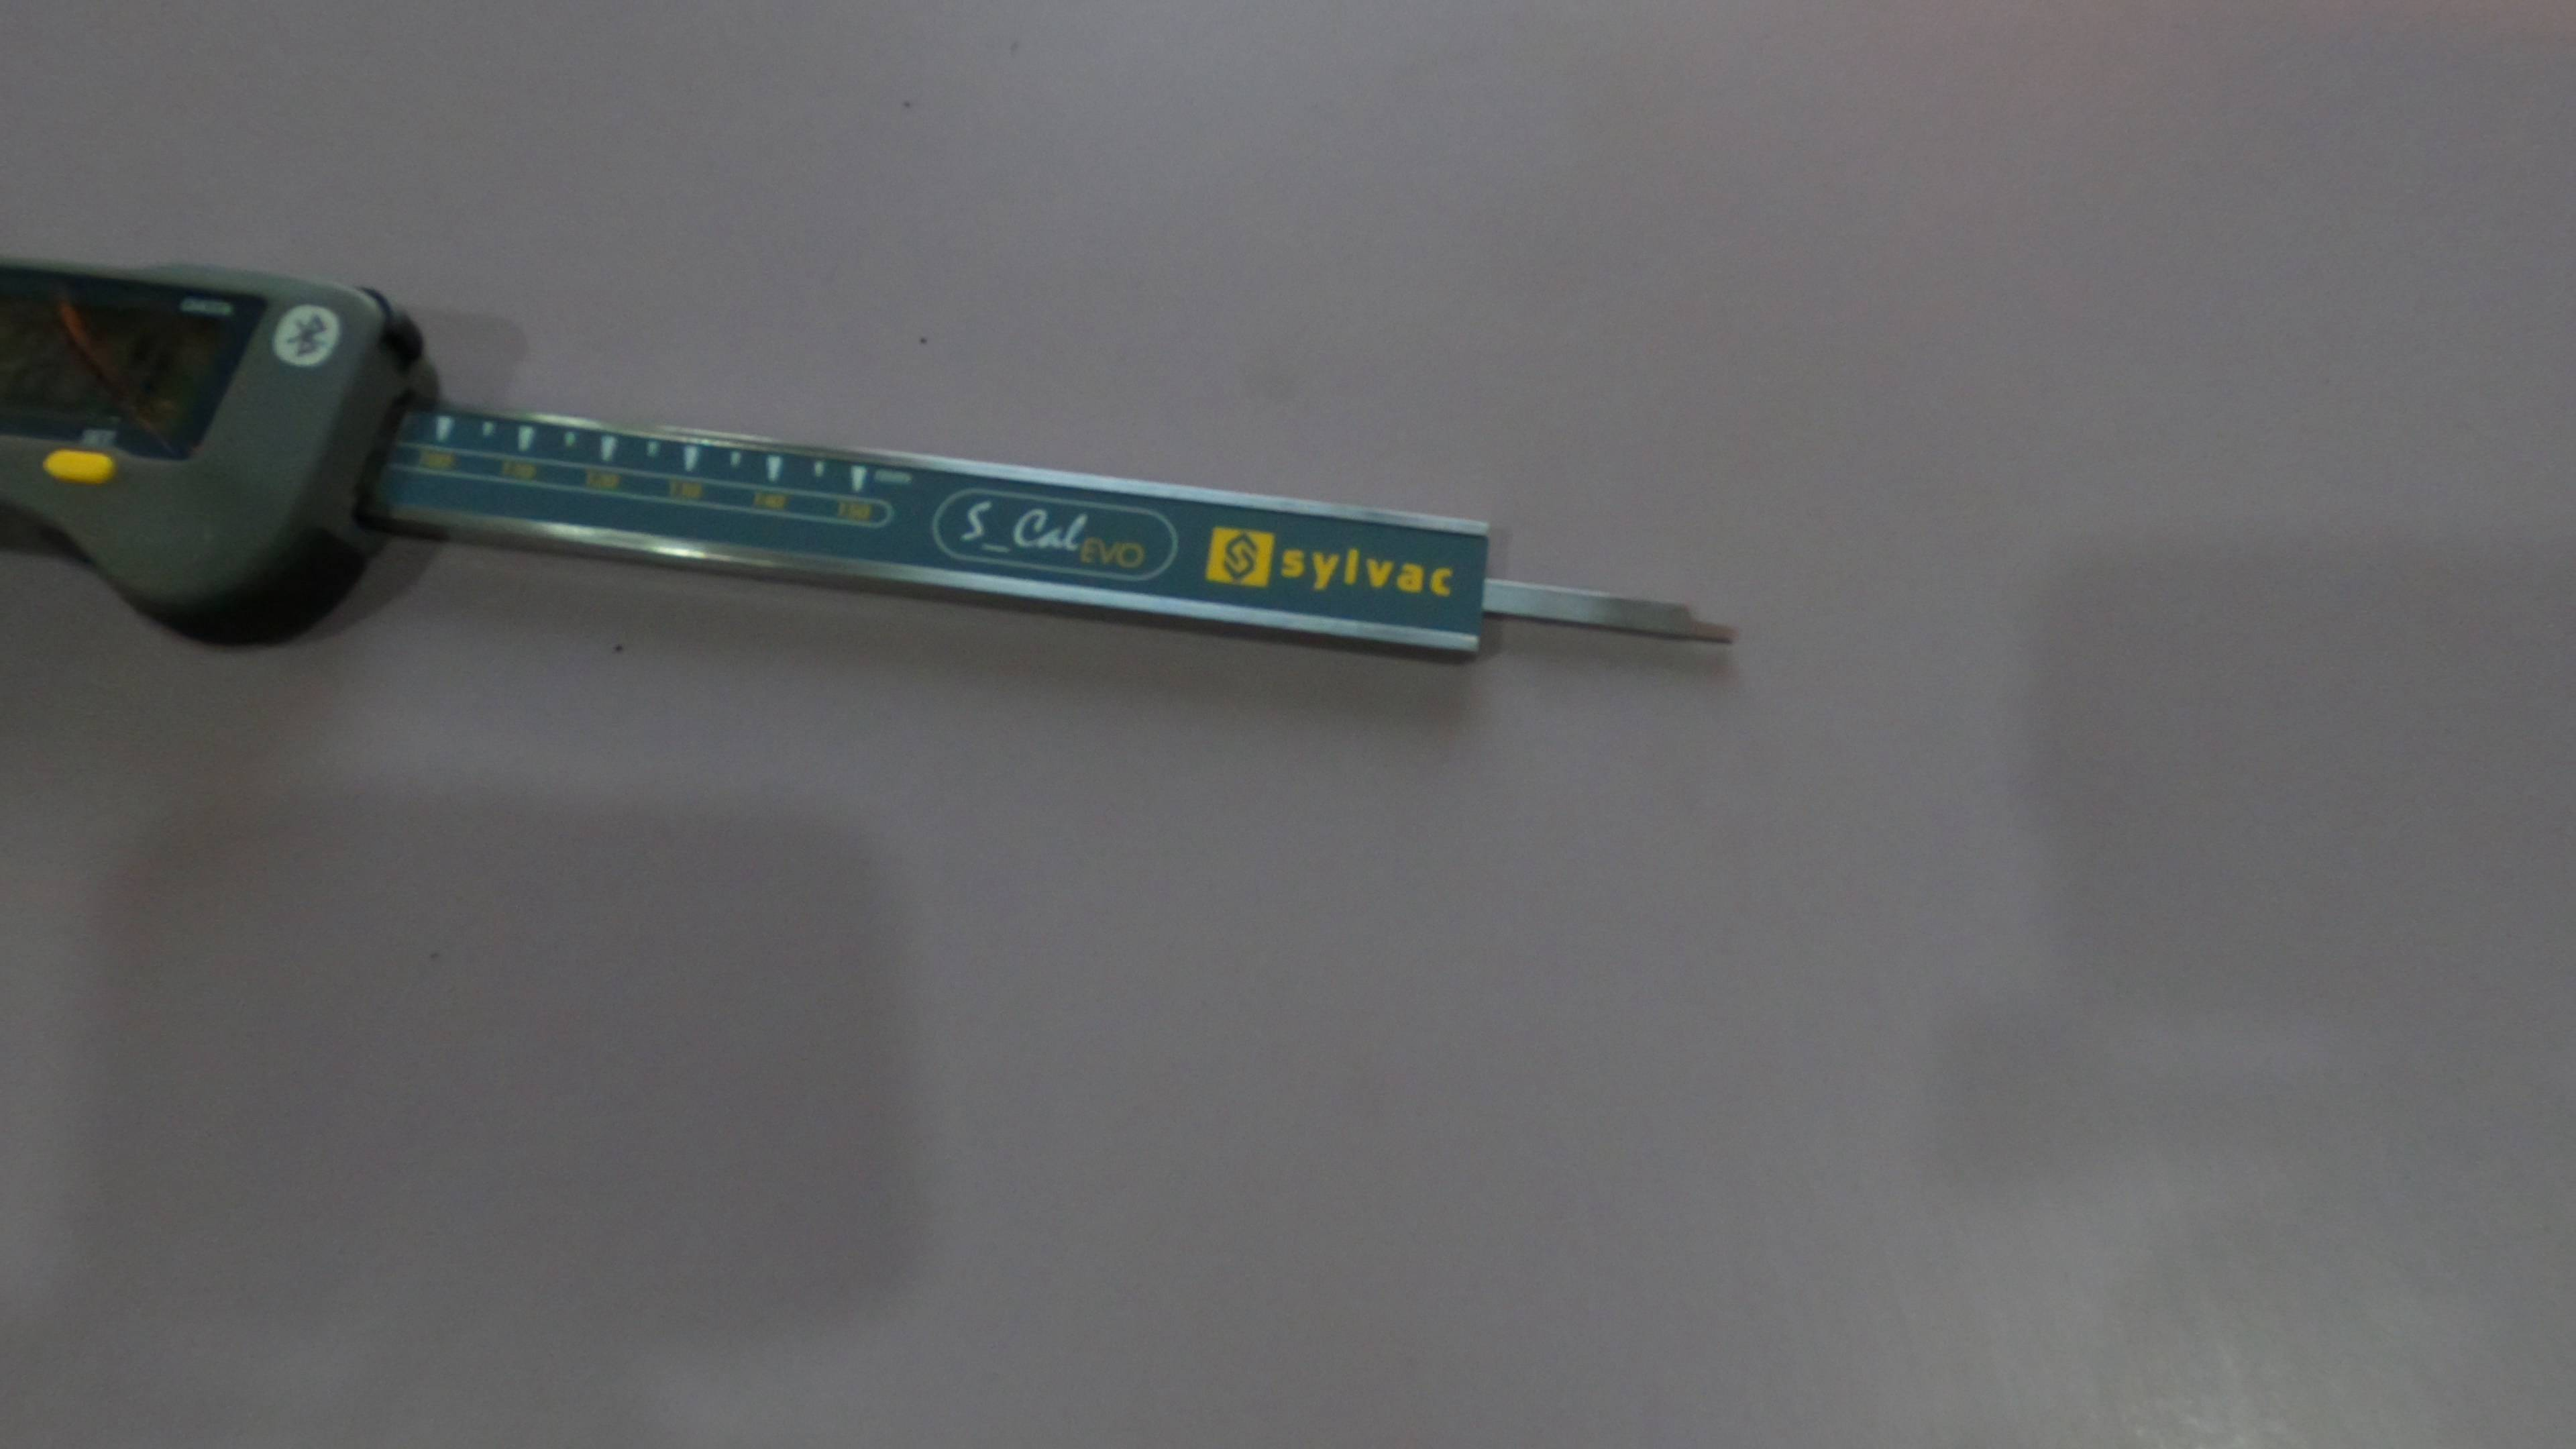vernier_caliper: (11, 244, 1748, 681)
